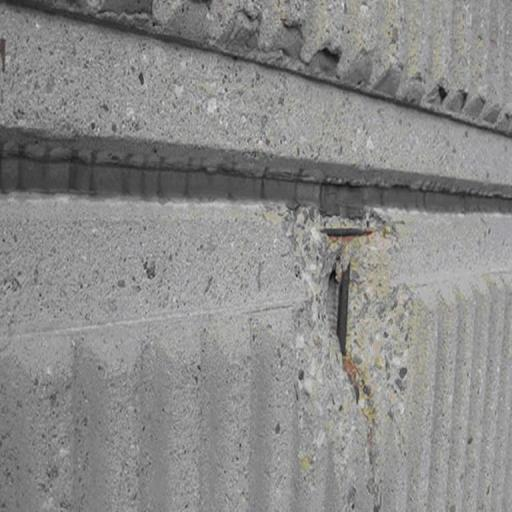spalling: (283, 215, 394, 401)
